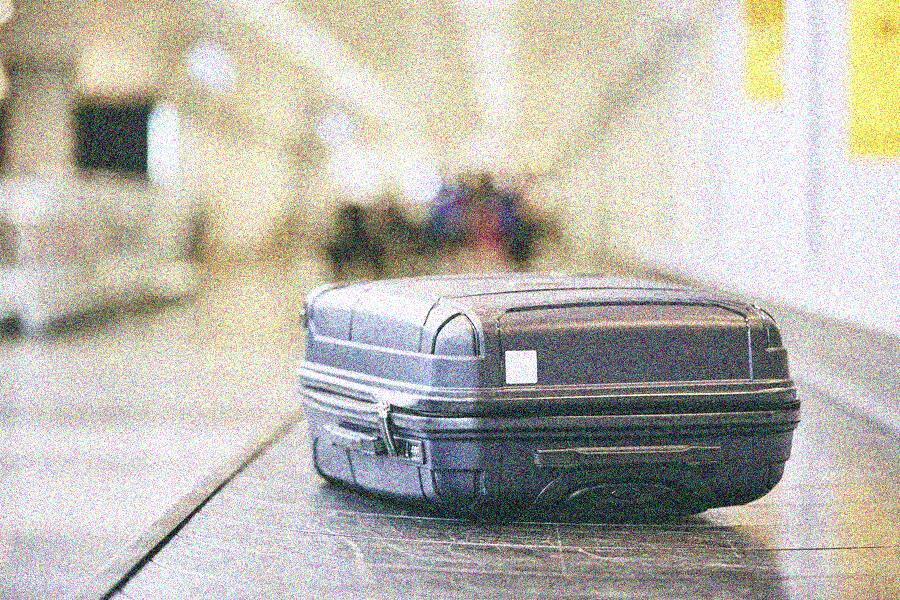baggage: (291, 266, 809, 536)
